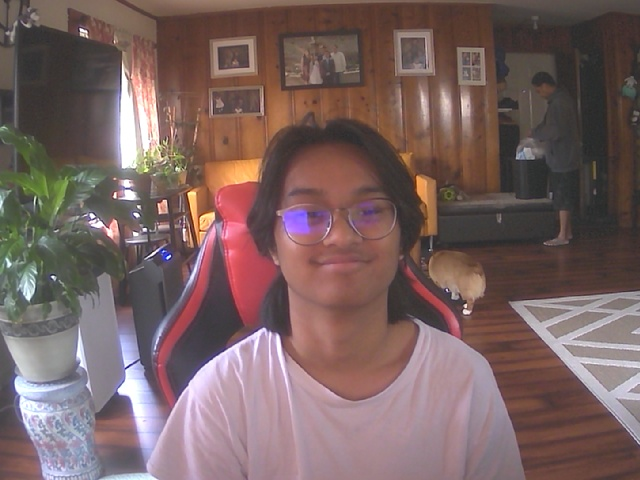happy: (261, 127, 418, 314)
